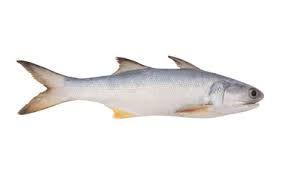Fourfinger Threadfish: (16, 56, 265, 120)
